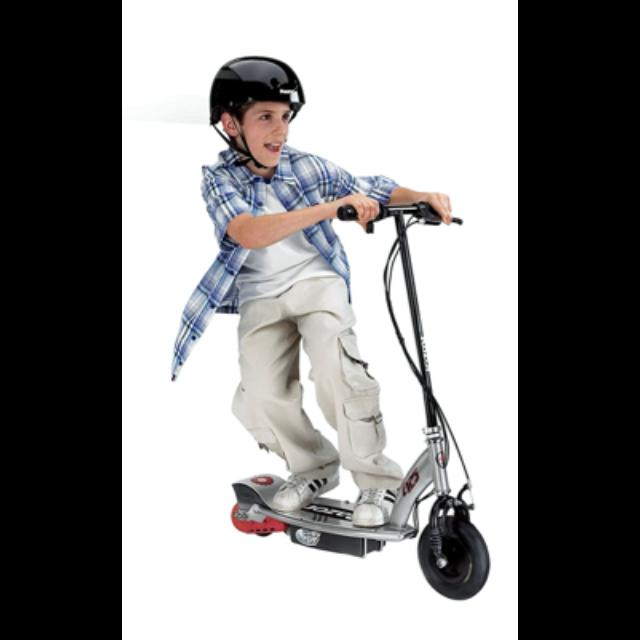With Helmet: (199, 48, 311, 176)
